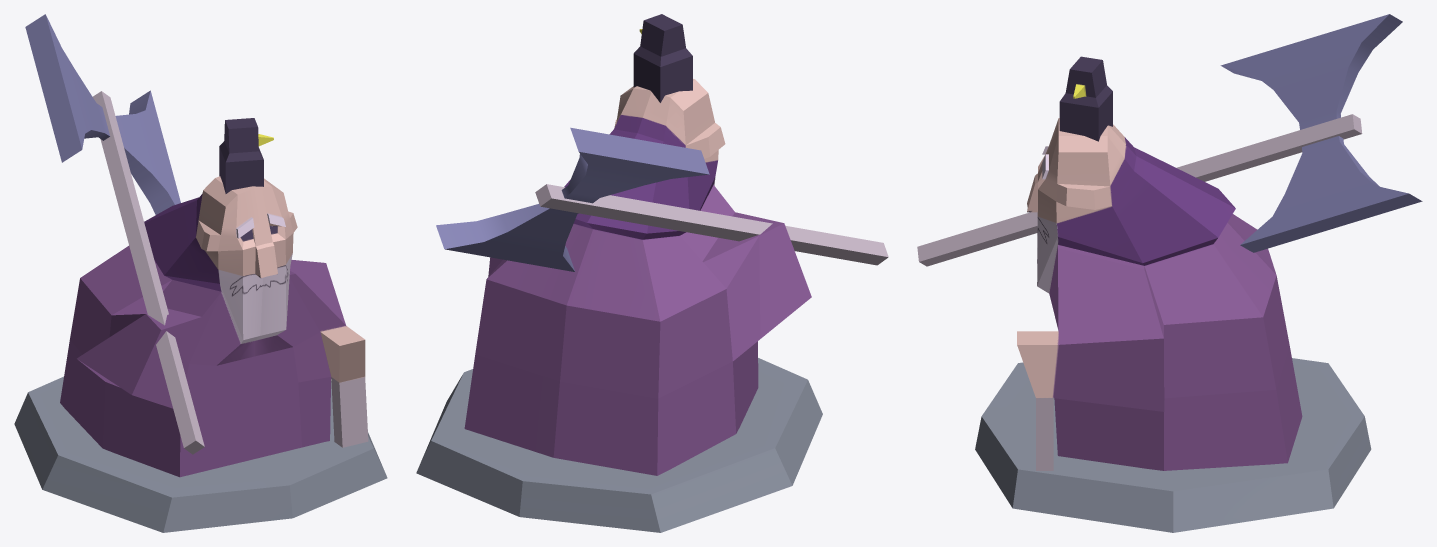
The model's file is Pawn_Raven.fbx.
The picture shows the model from 3 angles, left to right: view 1: azimuth 30°, elevation 25°; view 2: azimuth 150°, elevation 25°; view 3: azimuth 270°, elevation 25°; orthographic projection. The views are drawn at different scales.
Parts seen in each view (by area): view 1: Raven_Body, Raven_Stand; view 2: Raven_Body, Raven_Stand; view 3: Raven_Body, Raven_Stand.
Part boxes in pixels (box(x1,y1,x2,y2)): Raven_Body: box(25, 14, 368, 477); Raven_Stand: box(14, 376, 387, 532); Raven_Body: box(436, 14, 888, 475); Raven_Stand: box(416, 358, 822, 532); Raven_Body: box(917, 14, 1422, 470); Raven_Stand: box(975, 358, 1371, 532).
Bounding box in the file's own units: 0.4291 × 0.4871 × 0.5488.
